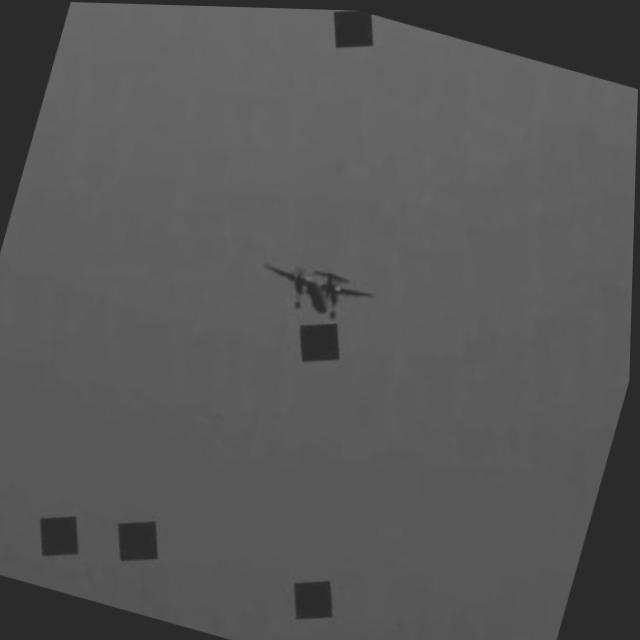aeroplane: (242, 216, 397, 351)
